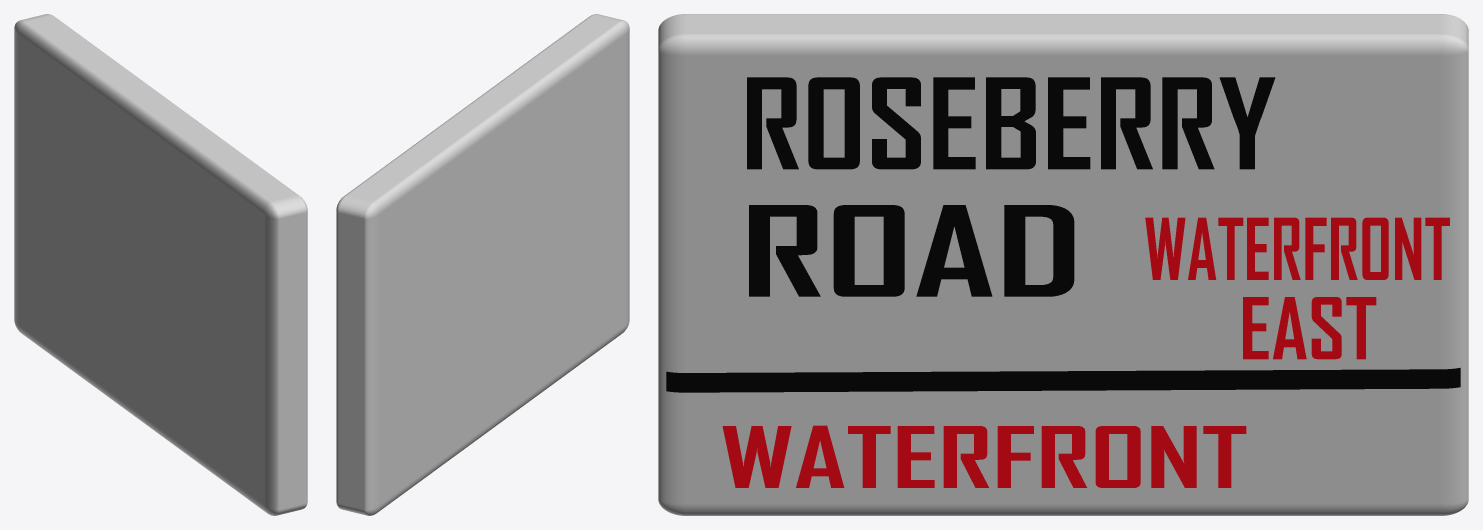
Rendered from uk_styled_street_sign_52.fbx.
3 views of the same model, side by side, from view 1: azimuth 30°, elevation 25°; view 2: azimuth 150°, elevation 25°; view 3: azimuth 270°, elevation 25° (orthographic). The views are drawn at different scales.
Parts seen in each view (by area): view 1: Cube; view 2: Cube; view 3: Cube, Text, Text.001, Text.002, Text.003, Text.004.
Boxes of the visible parts, x1,y1,x2,y2 form: Cube: [14, 14, 307, 515]; Cube: [336, 14, 629, 515]; Cube: [658, 14, 1468, 515]; Text: [747, 77, 1275, 169]; Text.001: [749, 205, 1074, 296]; Text.002: [722, 425, 1246, 487]; Text.003: [1145, 217, 1449, 279]; Text.004: [1243, 297, 1376, 359].
Size of the model in its own units: 1.63 by 11.91 by 18.18.
